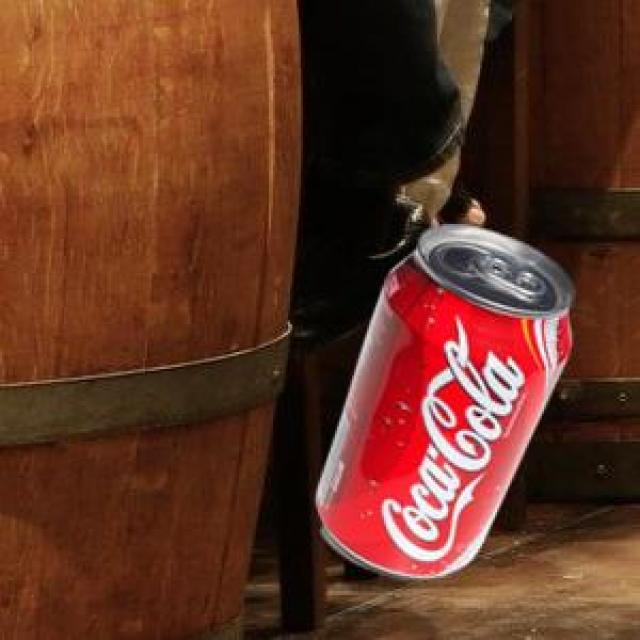Can: (313, 223, 571, 577)
